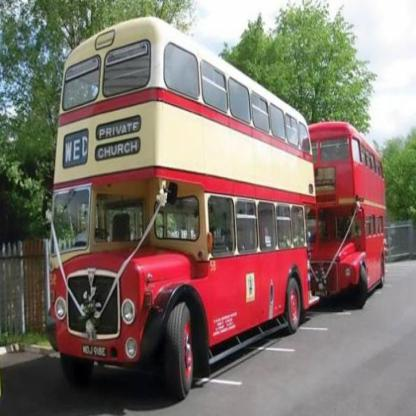Bus: (45, 17, 316, 398), (308, 121, 387, 308)
